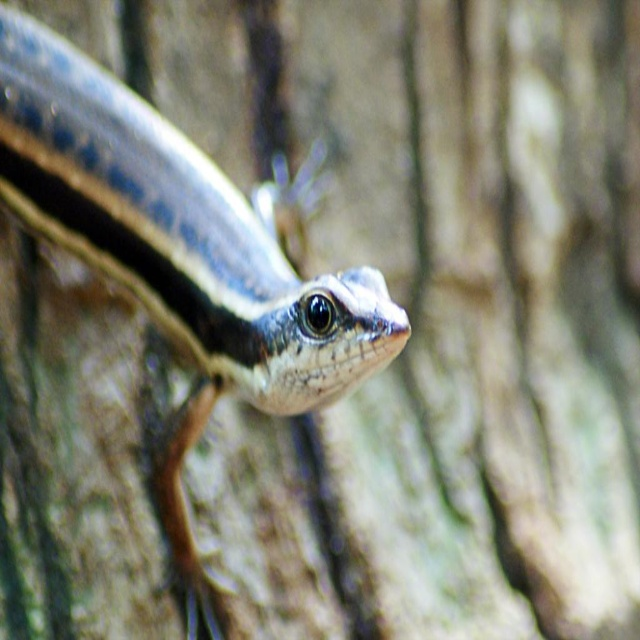Lizard: (9, 61, 408, 625)
